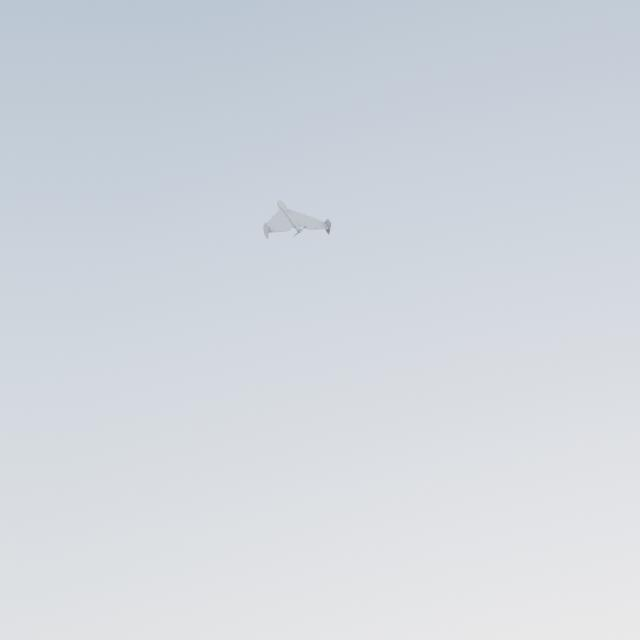Airaplan: (263, 200, 331, 239)
